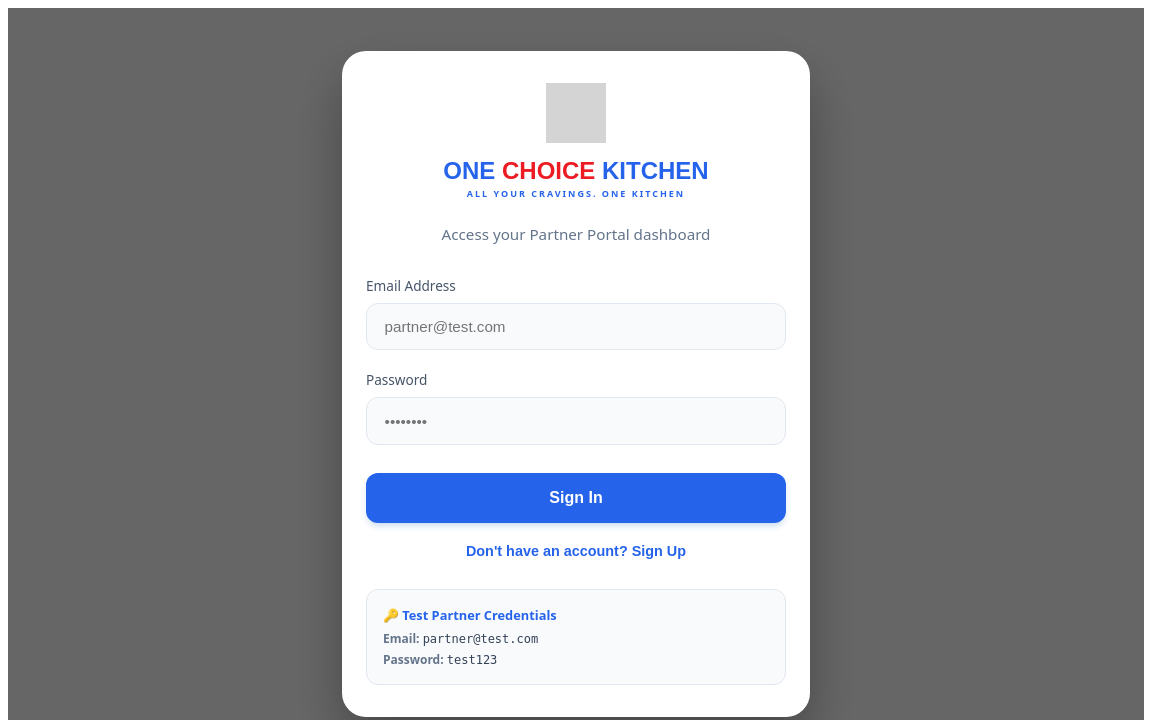
Scenario: Partner Portal Critical Paths › should allow switching to the registration form
Click the button "Don't have an account? Sign Up".
click(576, 551)  # box [460, 542, 692, 560]
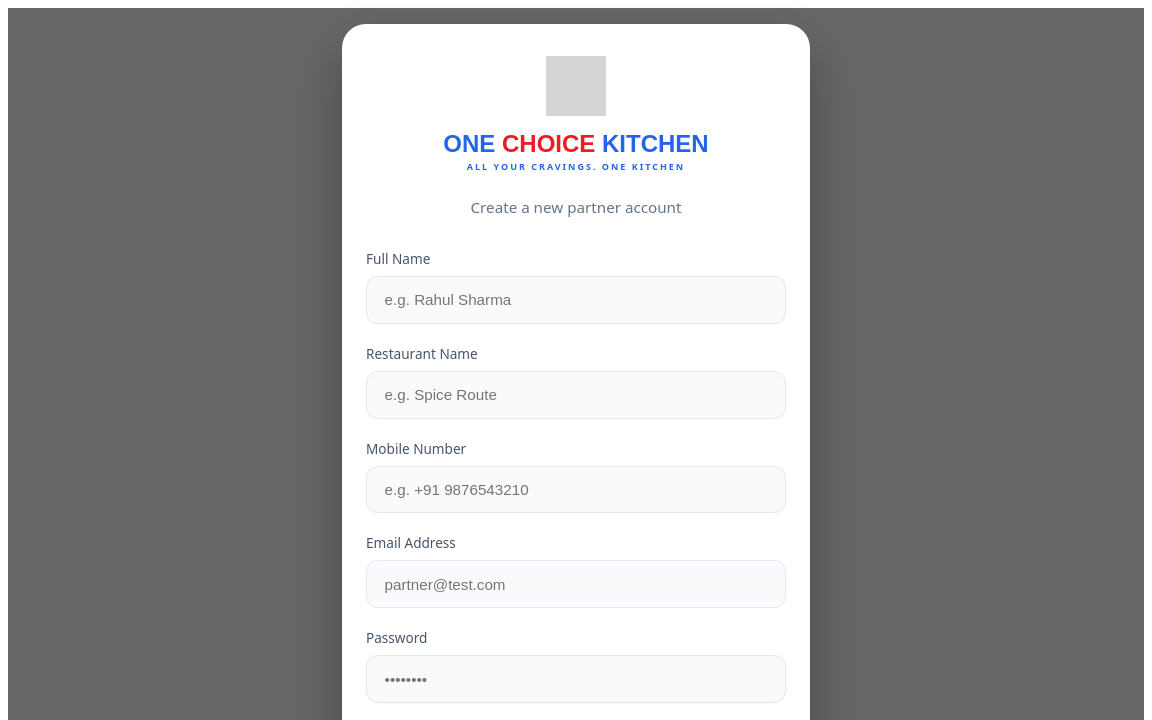
Result: the text "Full Name" is shown at [366, 249, 430, 268]
Result: the text "Restaurant Name" is shown at [366, 344, 478, 363]
